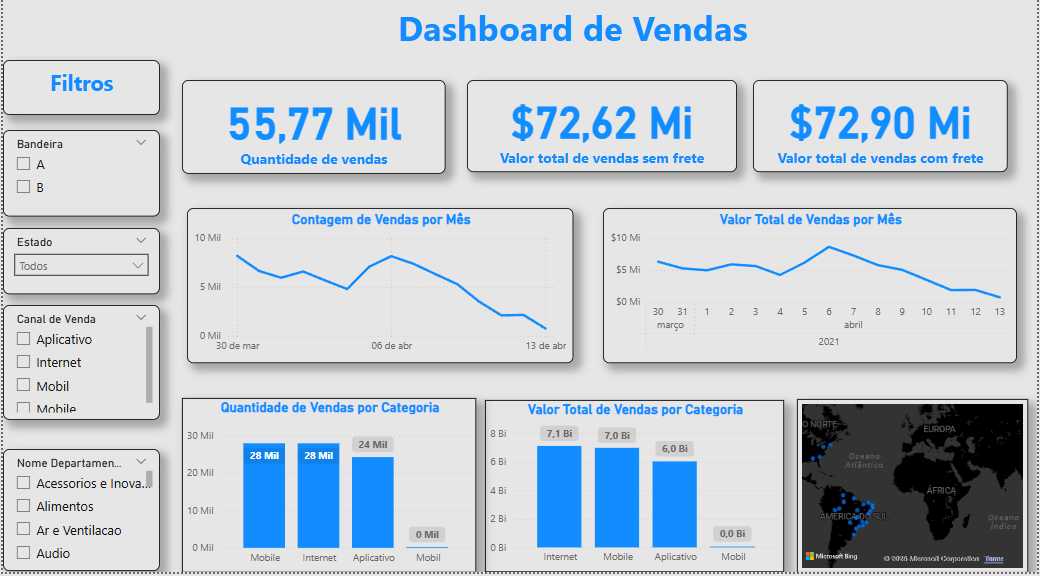

The page's visual inventory and layout, read from the dashboard file:
{"tool":"powerbi","page":{"name":"Visão do Cliente","canvas":[1280,720],"ordinal":1},"visuals":[{"type":"lineChart","title":"Contagem de Vendas por Mês","fields":{"Y":["CountNonNull(base compra.idcompra)"],"Category":["base compra.Data"]},"box":[227,269.7,478.5,192],"z":0},{"type":"columnChart","title":"Valor Total de Vendas por Categoria","fields":{"Y":["Sum(base compra.idcompra)"],"Category":["base compra.idcanalvenda"]},"box":[595.8,507.4,370.3,213.3],"z":1000},{"type":"columnChart","title":"Quantidade de Vendas por Categoria","fields":{"Y":["CountNonNull(base compra.idcompra)"],"Category":["base compra.idcanalvenda"]},"box":[221,504.4,364.2,216.4],"z":2000},{"type":"card","title":"Quantidade de vendas","fields":{"Values":["Count(base compra.idcompra)"]},"box":[221,111.2,326.1,115.8],"z":3000},{"type":"card","fields":{"Values":["Sum(base compra.Preço)"]},"box":[574.5,111.2,333.7,114.3],"z":4000},{"type":"card","fields":{"Values":["Sum(base compra.Preço_com_frete)"]},"box":[928,111.2,315.4,114.3],"z":5000},{"type":"slicer","fields":{"Values":["base compra.bandeira"]},"box":[0,173.7,193.5,106.7],"z":6000},{"type":"slicer","fields":{"Values":["base compra.estado"]},"box":[0,294.1,193.5,82.3],"z":7000},{"type":"slicer","fields":{"Values":["base compra.idcanalvenda"]},"box":[0,390.1,193.5,141.7],"z":8000},{"type":"slicer","fields":{"Values":["base compra.Nome_Departamento"]},"box":[0,568.4,193.5,150.9],"z":9000},{"type":"lineChart","title":"Valor Total de Vendas por Mês","fields":{"Y":["Sum(base compra.Preço)"],"Category":["base compra.Data.Variation.Hierarquia de datas.Ano","base compra.Data.Variation.Hierarquia de datas.Mês","base compra.Data.Variation.Hierarquia de datas.Dia"]},"box":[742.1,269.7,512,192],"z":10000},{"type":"map","fields":{"Category":["base compra.estado"]},"box":[982.9,505.9,286.5,214.9],"z":11000},{"type":"textbox","box":[269.7,12.2,870.1,74.7],"z":12000},{"type":"textbox","box":[0,86.4,194.1,68.2],"z":13000}]}

Visuals, with their boxes in screenshot pixels (x1, y1, x2, y2), scaled from the page's 1280x720 canvas onto the 1040x576 screenshot:
"Contagem de Vendas por Mês" lineChart: <region>184, 216, 573, 369</region>
"Valor Total de Vendas por Categoria" columnChart: <region>484, 406, 785, 575</region>
"Quantidade de Vendas por Categoria" columnChart: <region>180, 404, 475, 575</region>
"Quantidade de vendas" card: <region>180, 89, 445, 182</region>
card - Sum(base compra.Preço): <region>467, 89, 738, 180</region>
card - Sum(base compra.Preço_com_frete): <region>754, 89, 1010, 180</region>
slicer - base compra.bandeira: <region>0, 139, 157, 224</region>
slicer - base compra.estado: <region>0, 235, 157, 301</region>
slicer - base compra.idcanalvenda: <region>0, 312, 157, 425</region>
slicer - base compra.Nome_Departamento: <region>0, 455, 157, 575</region>
"Valor Total de Vendas por Mês" lineChart: <region>603, 216, 1019, 369</region>
map - base compra.estado: <region>799, 405, 1031, 575</region>
textbox: <region>219, 10, 926, 70</region>
textbox: <region>0, 69, 158, 124</region>
